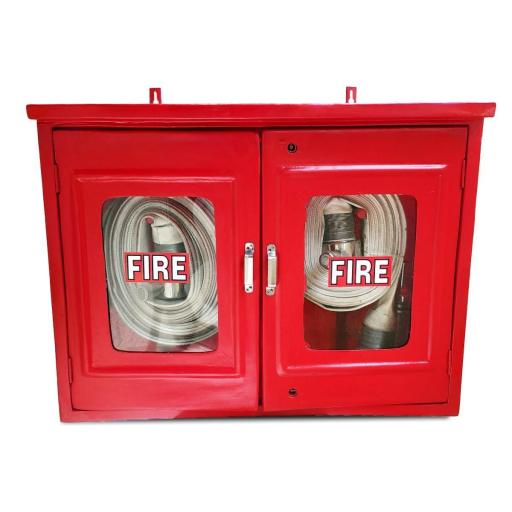fire_hose: (18, 97, 497, 427)
